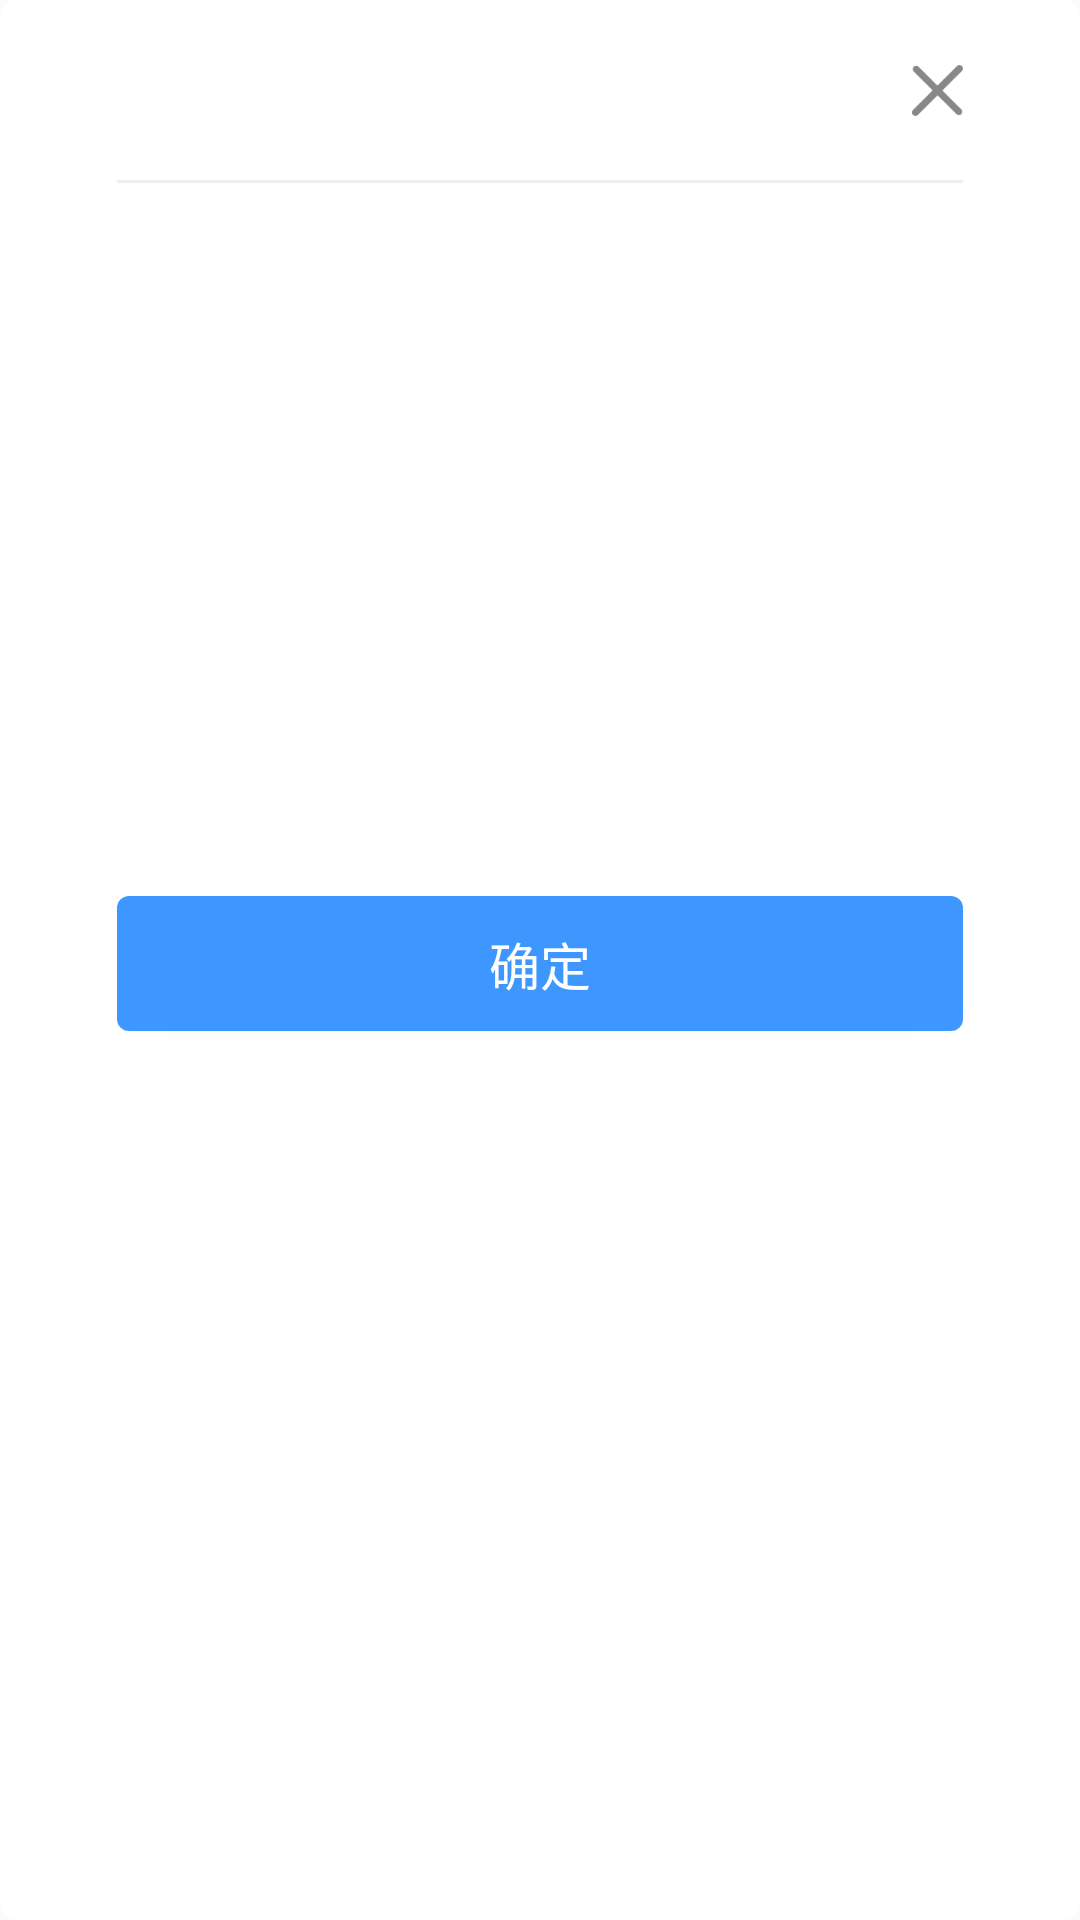

Icon bounding boxes for this 1080w x 1920h phone screenshot, format [x1, y1, x2, y2]:
cancel: [912, 65, 963, 116]
